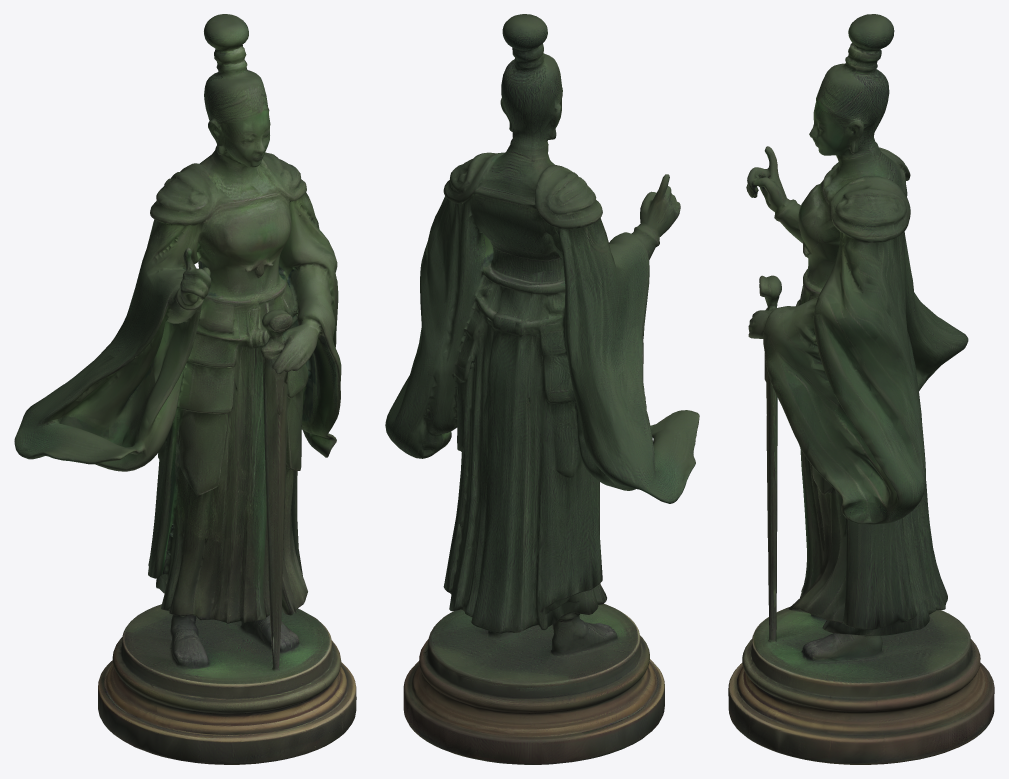
The model's file is lechan.glb.
3 views of the same model, side by side, from view 1: azimuth 30°, elevation 25°; view 2: azimuth 150°, elevation 25°; view 3: azimuth 270°, elevation 25° (orthographic).
Size of the model in its own units: 0.8608 by 1.91 by 0.6625.
Materials: 1 (1 with a texture image).
